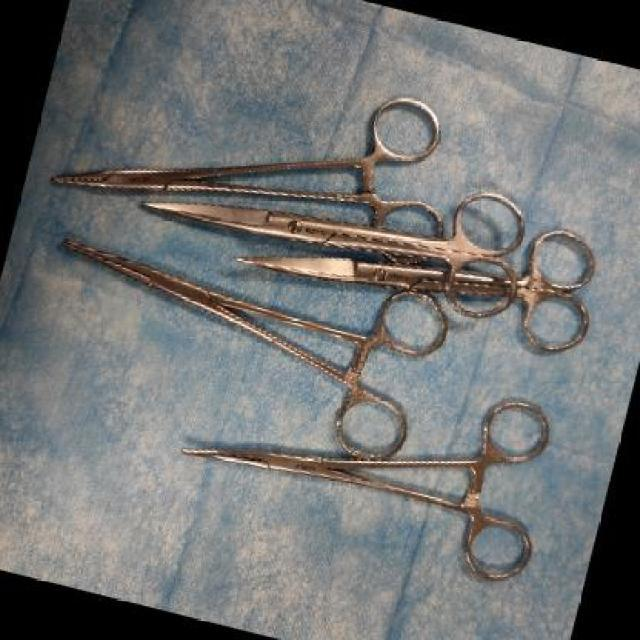tools_table: (33, 83, 612, 587)
